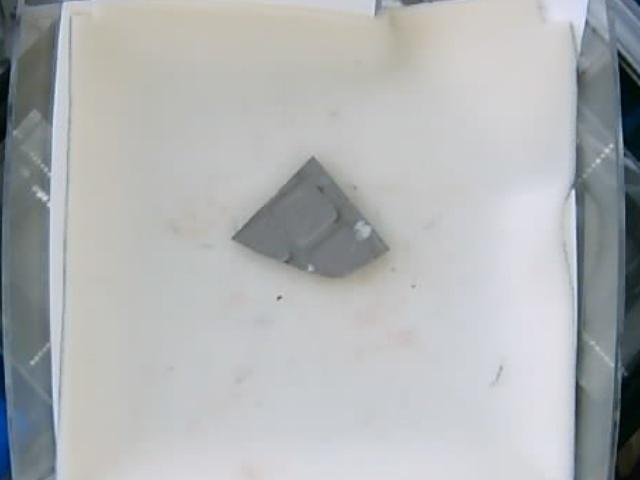China: (231, 158, 389, 276)
